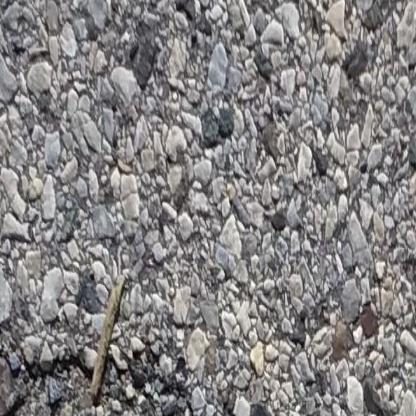Cracks: (0, 340, 240, 416)
